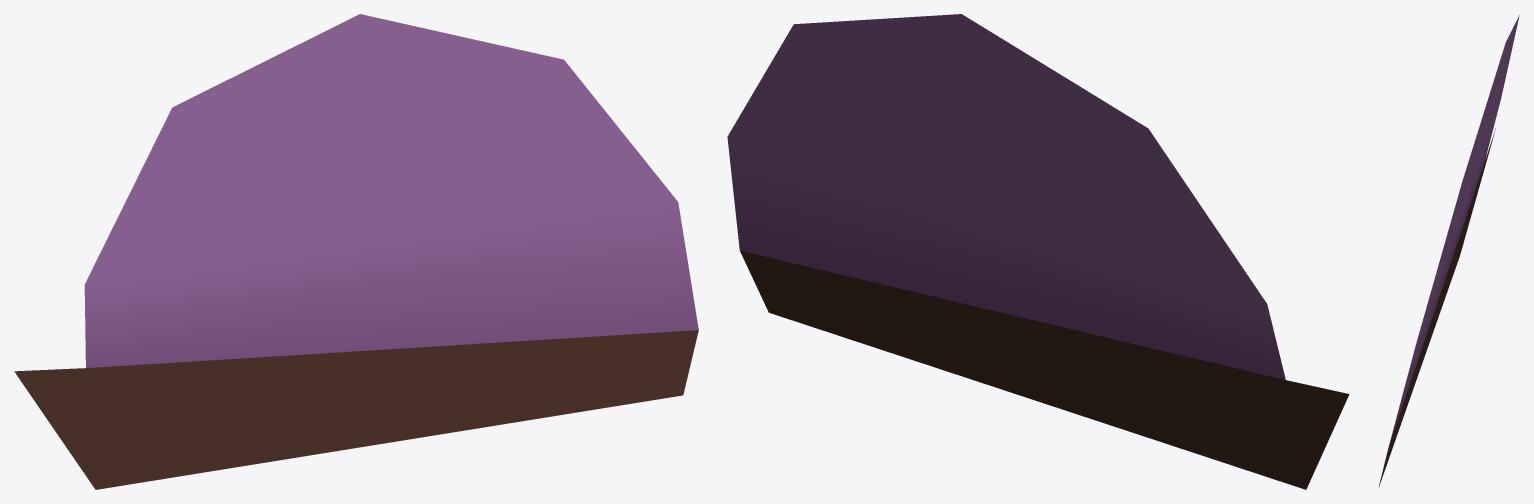
Rendered from scareCrowTopEyeLidLashPurpleRight.glb.
3 renders of one model, left to right at view 1: azimuth 30°, elevation 25°; view 2: azimuth 150°, elevation 25°; view 3: azimuth 270°, elevation 25°, orthographic. The views are drawn at different scales.
Visible parts, largest first — view 1: scareCrowTopEyeLidLashPurpleRight; view 2: scareCrowTopEyeLidLashPurpleRight; view 3: scareCrowTopEyeLidLashPurpleRight.
Part boxes in pixels (left/top/right/bottom): scareCrowTopEyeLidLashPurpleRight: left=14, top=14, right=698, bottom=489; scareCrowTopEyeLidLashPurpleRight: left=727, top=14, right=1349, bottom=489; scareCrowTopEyeLidLashPurpleRight: left=1378, top=15, right=1519, bottom=487.
Size of the model in its own units: 0.1169 by 0.0698 by 0.0263.
